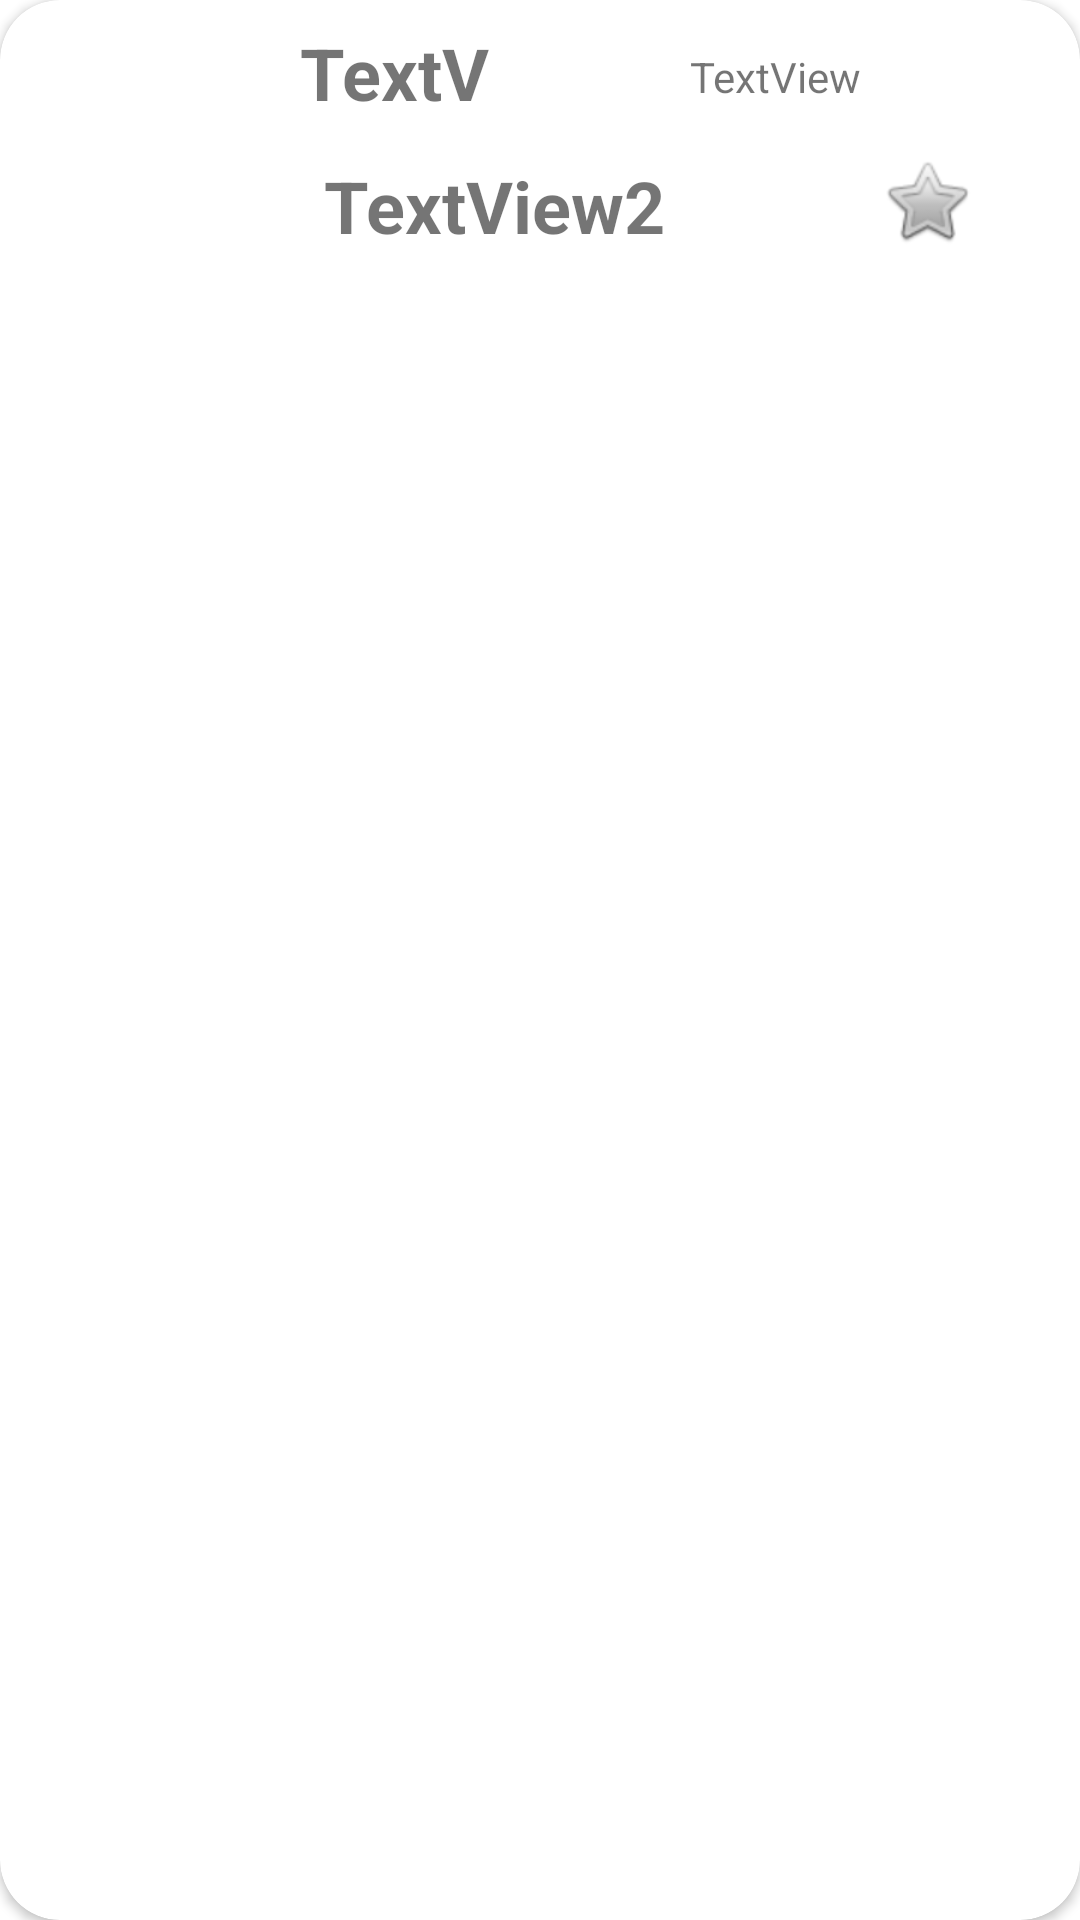

Named icons in this screenshot (1080 × 1920) and their centers, [x,y]:
star off: [928,202]
